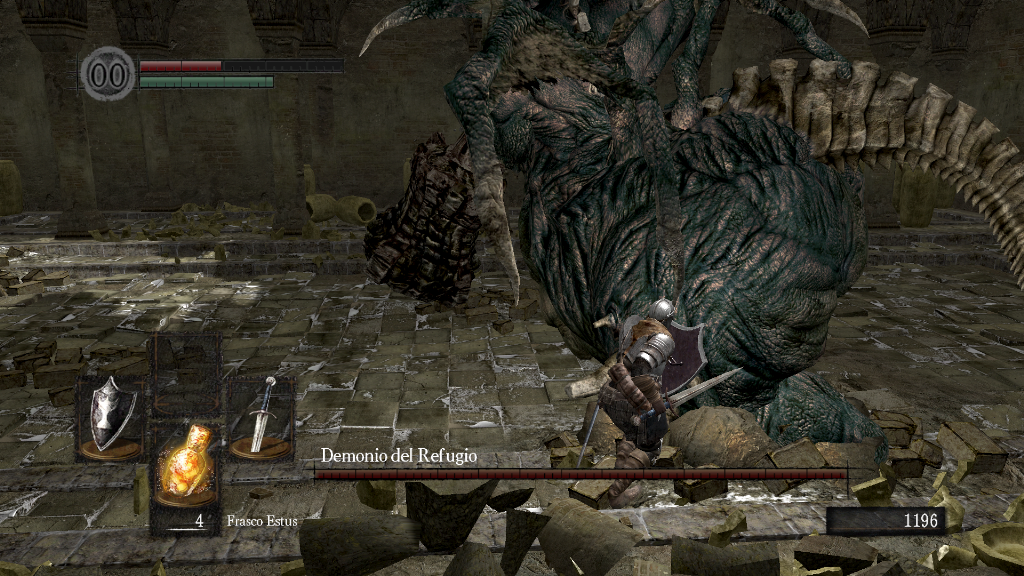asylumDemon: (354, 9, 1024, 465)
bossHP: (314, 469, 847, 479)
health: (138, 58, 343, 71)
humanity: (80, 45, 136, 102)
player: (597, 299, 743, 505)
souls: (825, 506, 945, 536)
stamina: (138, 74, 274, 88)
